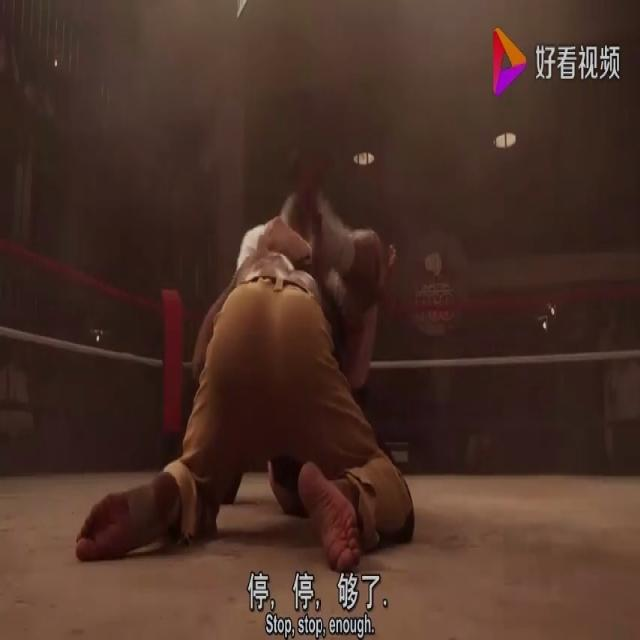fight: (77, 185, 414, 572)
non-fight: (597, 299, 640, 475)
